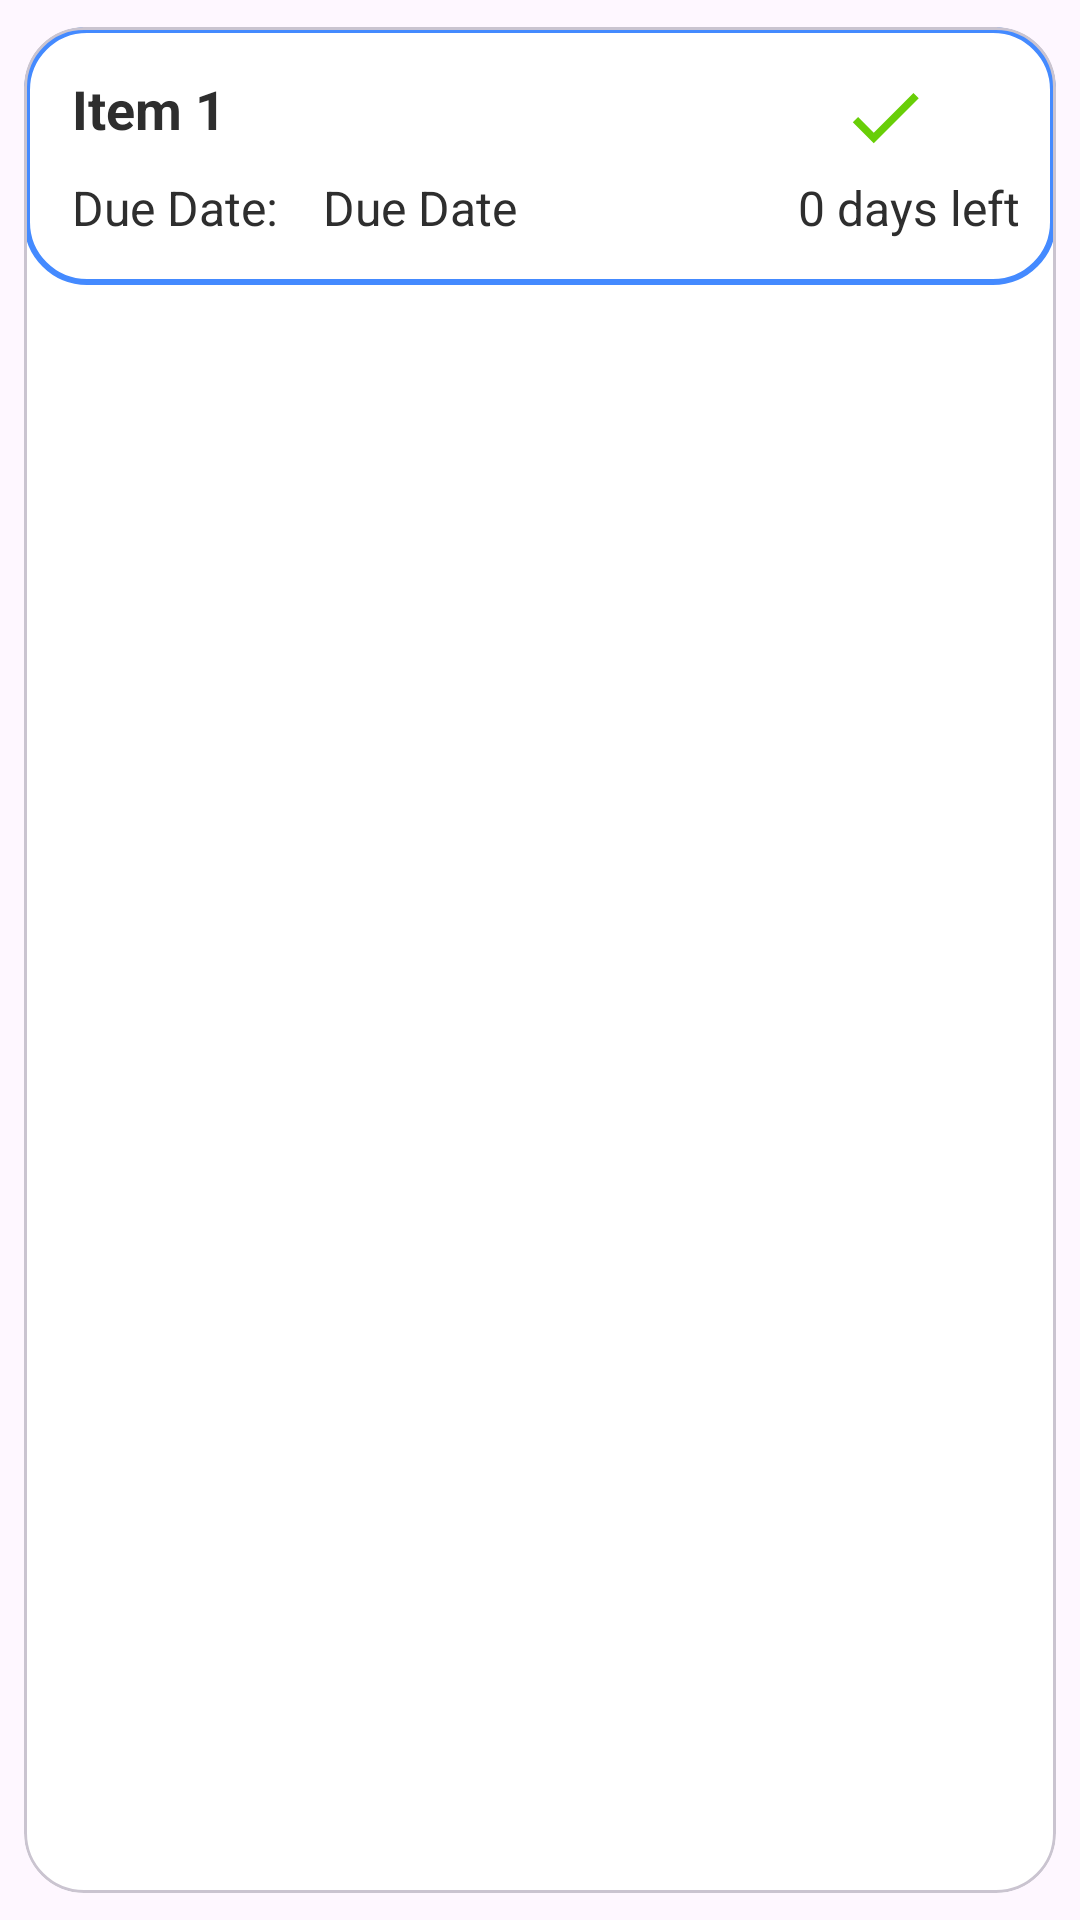

Screen size 1080 × 1920. Icon name, then its center in pixels as [x,y]:
check: [886,118]
